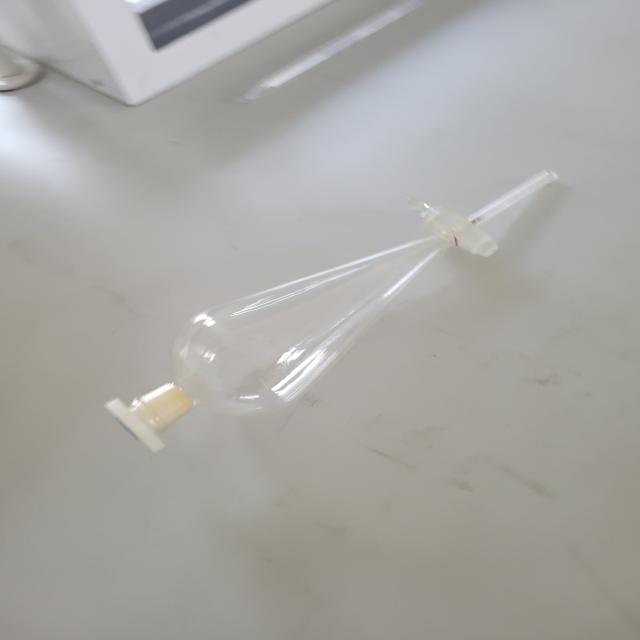Separating_Funnel: (81, 137, 573, 474)
